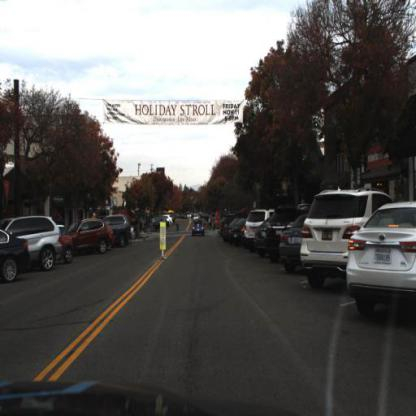car: (300, 188, 389, 293), (346, 202, 416, 330), (5, 215, 63, 271), (1, 229, 30, 288), (265, 207, 294, 262), (241, 209, 272, 250), (282, 217, 305, 272), (76, 223, 110, 254), (57, 224, 76, 265), (107, 214, 131, 245), (254, 221, 269, 260), (193, 219, 205, 236)
